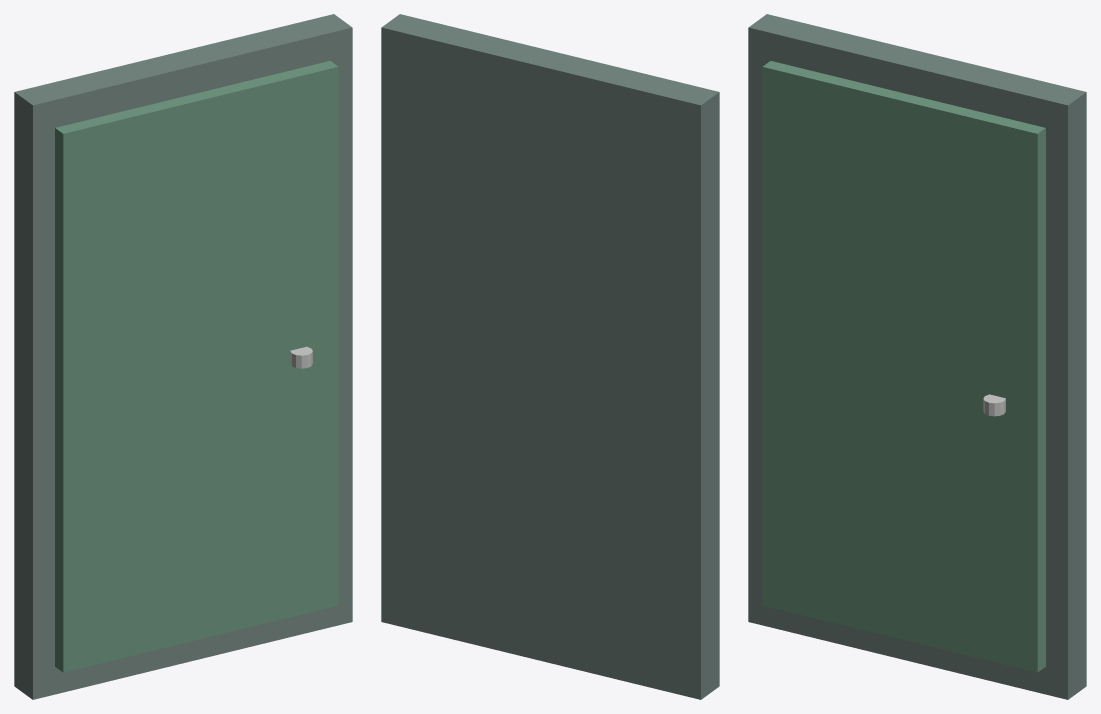
Rendered from exit_door_lod0.glb.
3 views of the same model, side by side, from view 1: azimuth 30°, elevation 25°; view 2: azimuth 150°, elevation 25°; view 3: azimuth 330°, elevation 25° (orthographic).
Visible parts, largest first — view 1: part_1, part_0; view 2: part_0; view 3: part_1, part_0.
Boxes of the visible parts, box(x1,y1,x2,y2) form: part_1: box(55, 61, 338, 672); part_0: box(14, 14, 352, 699); part_0: box(381, 14, 719, 699); part_1: box(762, 61, 1045, 672); part_0: box(748, 14, 1086, 699).
Bounding box in the file's own units: 1.8 × 3.2 × 0.345.
